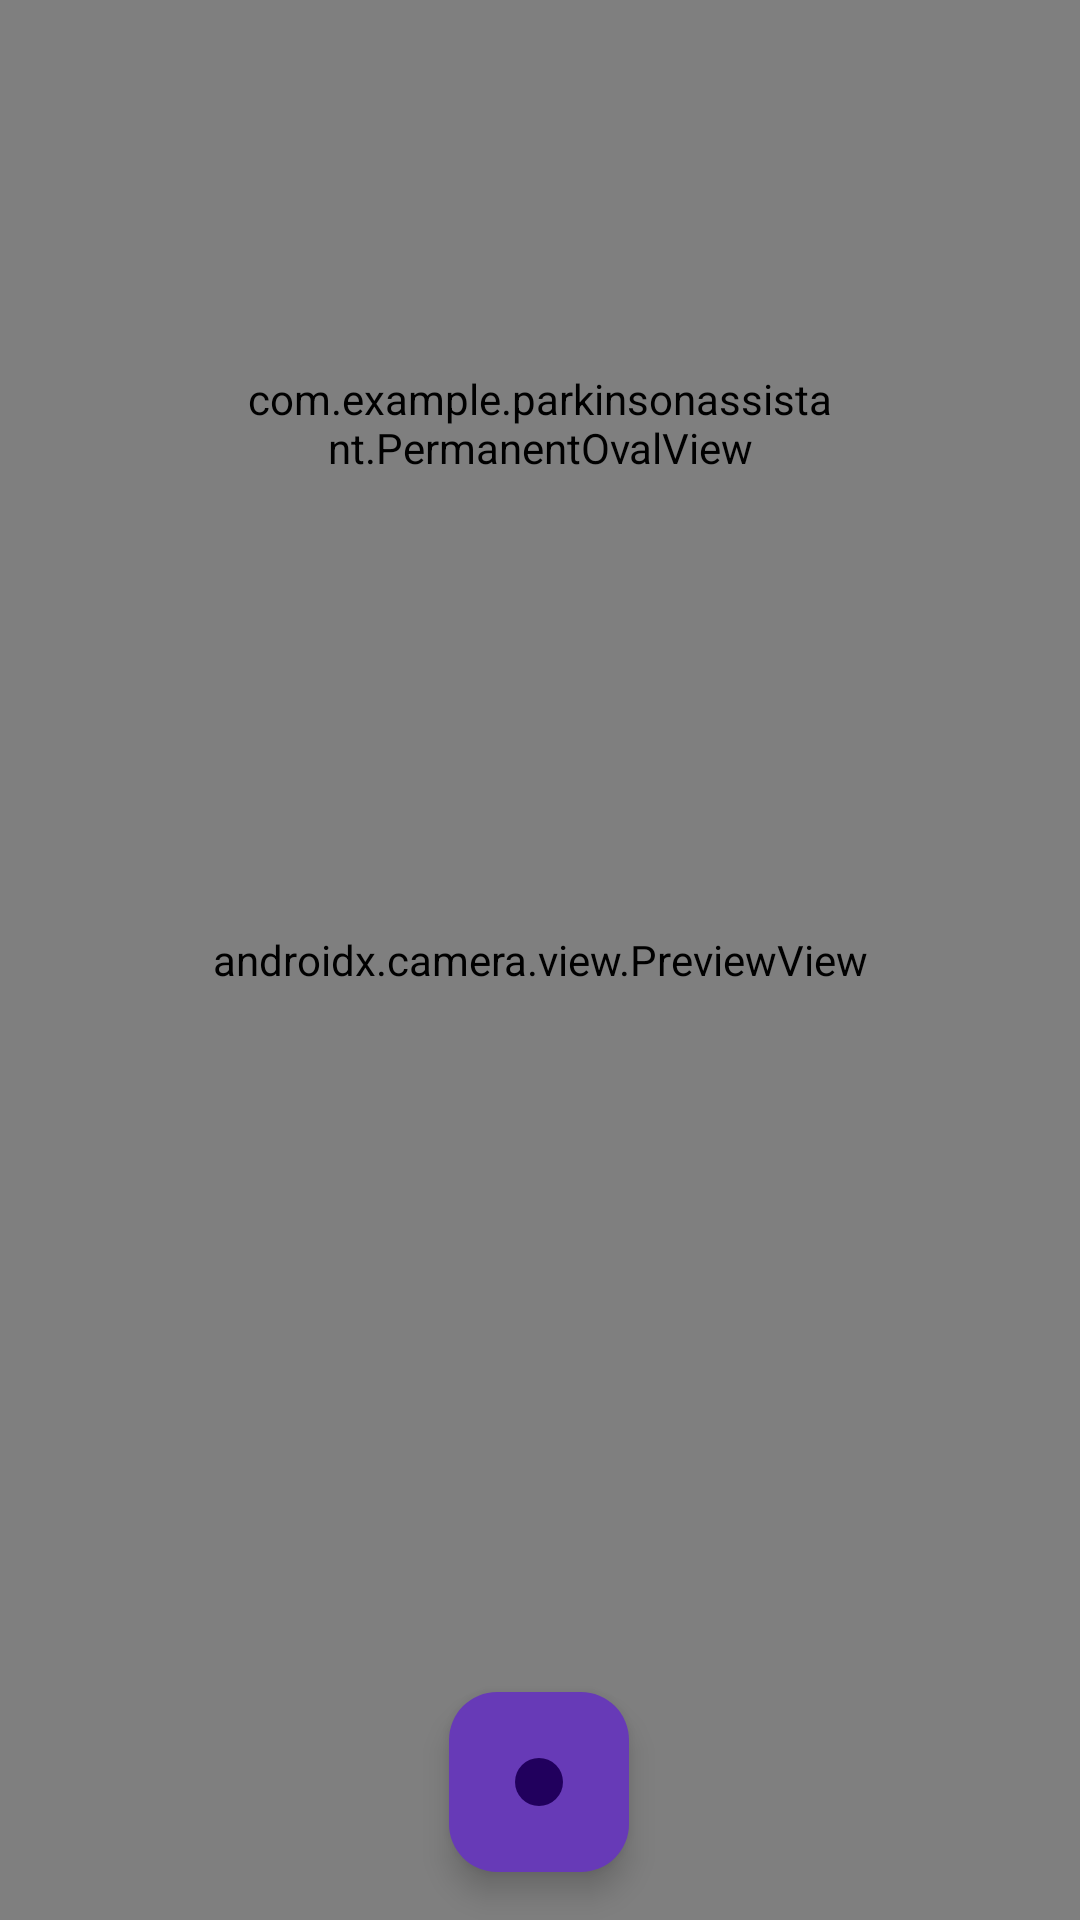

Named icons in this screenshot (1080px x 1920px) and their bounding boxes, Rect(x1, y1, x2, y2):
fiber manual record: Rect(449, 1692, 629, 1872)
